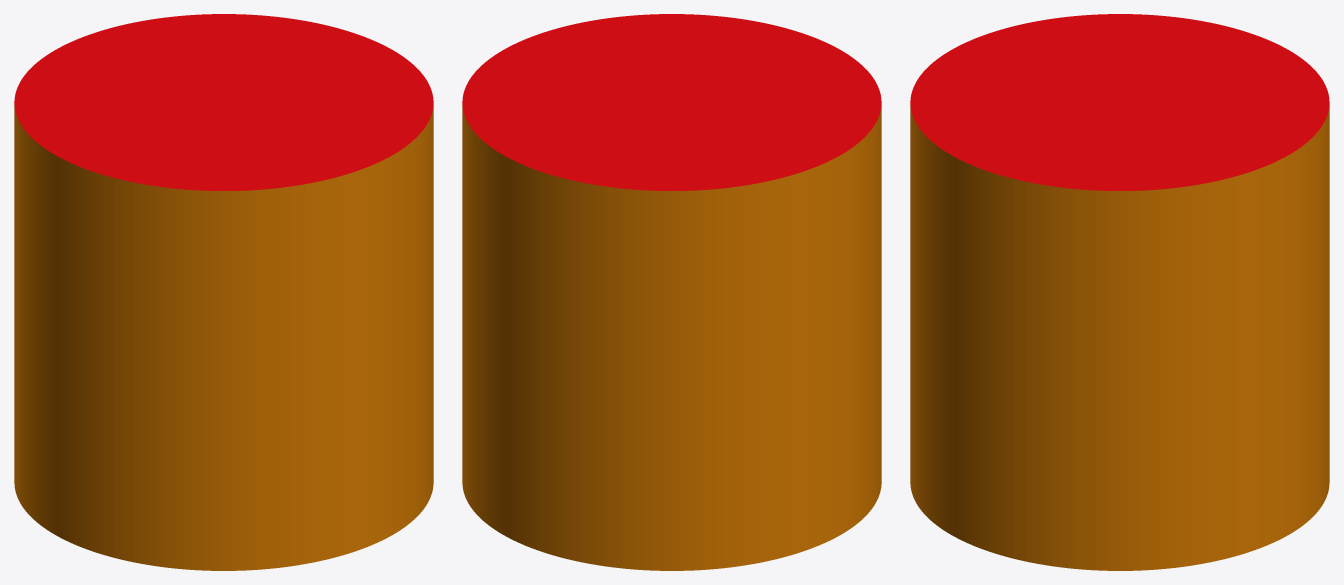
The picture shows the model from 3 angles, left to right: view 1: azimuth 30°, elevation 25°; view 2: azimuth 150°, elevation 25°; view 3: azimuth 270°, elevation 25°; orthographic projection.
Parts seen in each view (by area): view 1: CylinderWall, CylinderFloor; view 2: CylinderWall, CylinderFloor; view 3: CylinderWall, CylinderFloor.
Boxes of the visible parts, bbox=[...] form: CylinderWall: bbox=[14, 104, 433, 570]; CylinderFloor: bbox=[14, 14, 433, 190]; CylinderWall: bbox=[462, 104, 881, 570]; CylinderFloor: bbox=[462, 14, 881, 190]; CylinderWall: bbox=[910, 104, 1329, 570]; CylinderFloor: bbox=[910, 14, 1329, 190].
Bounding box in the file's own units: 2e+07 × 2e+07 × 2e+07.
